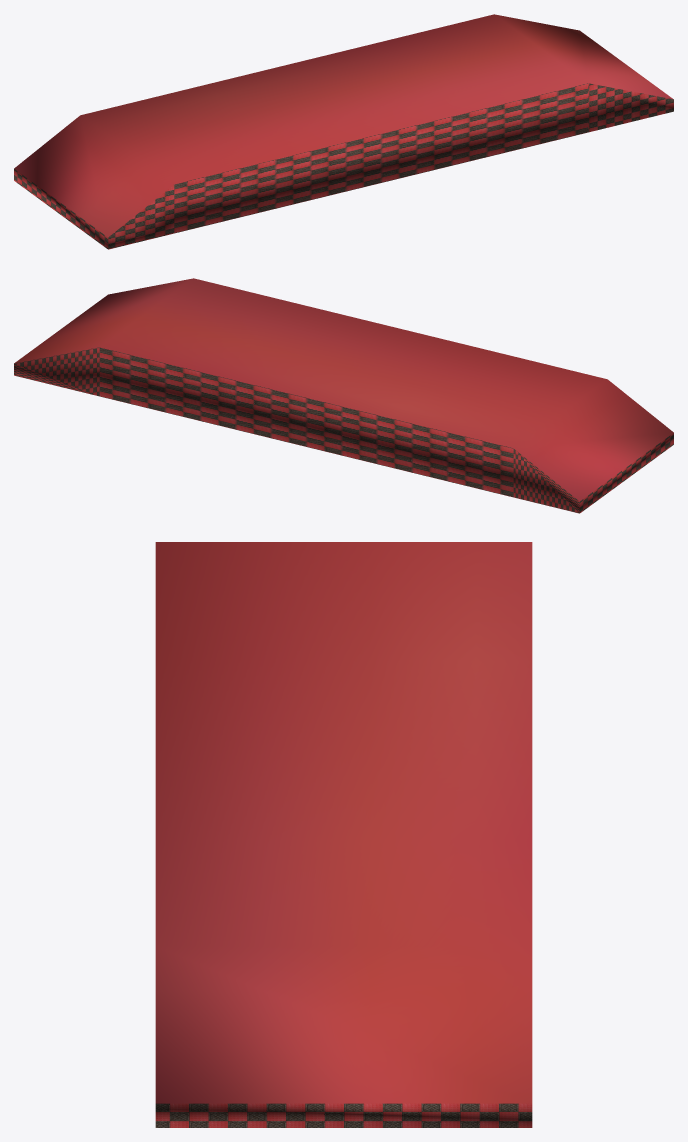
The model's file is PlatVilao.fbx.
The picture shows the model from 3 angles, top to bottom: view 1: azimuth 30°, elevation 25°; view 2: azimuth 150°, elevation 25°; view 3: azimuth 270°, elevation 25°; orthographic projection. The views are drawn at different scales.
Parts seen in each view (by area): view 1: Cube; view 2: Cube; view 3: Cube.
Part boxes in pixels (x1,y1,x2,y2): Cube: (14,14,673,249); Cube: (14,278,673,513); Cube: (155,542,532,1127).
Size of the model in its own units: 10.83 by 0.9001 by 3.12.
